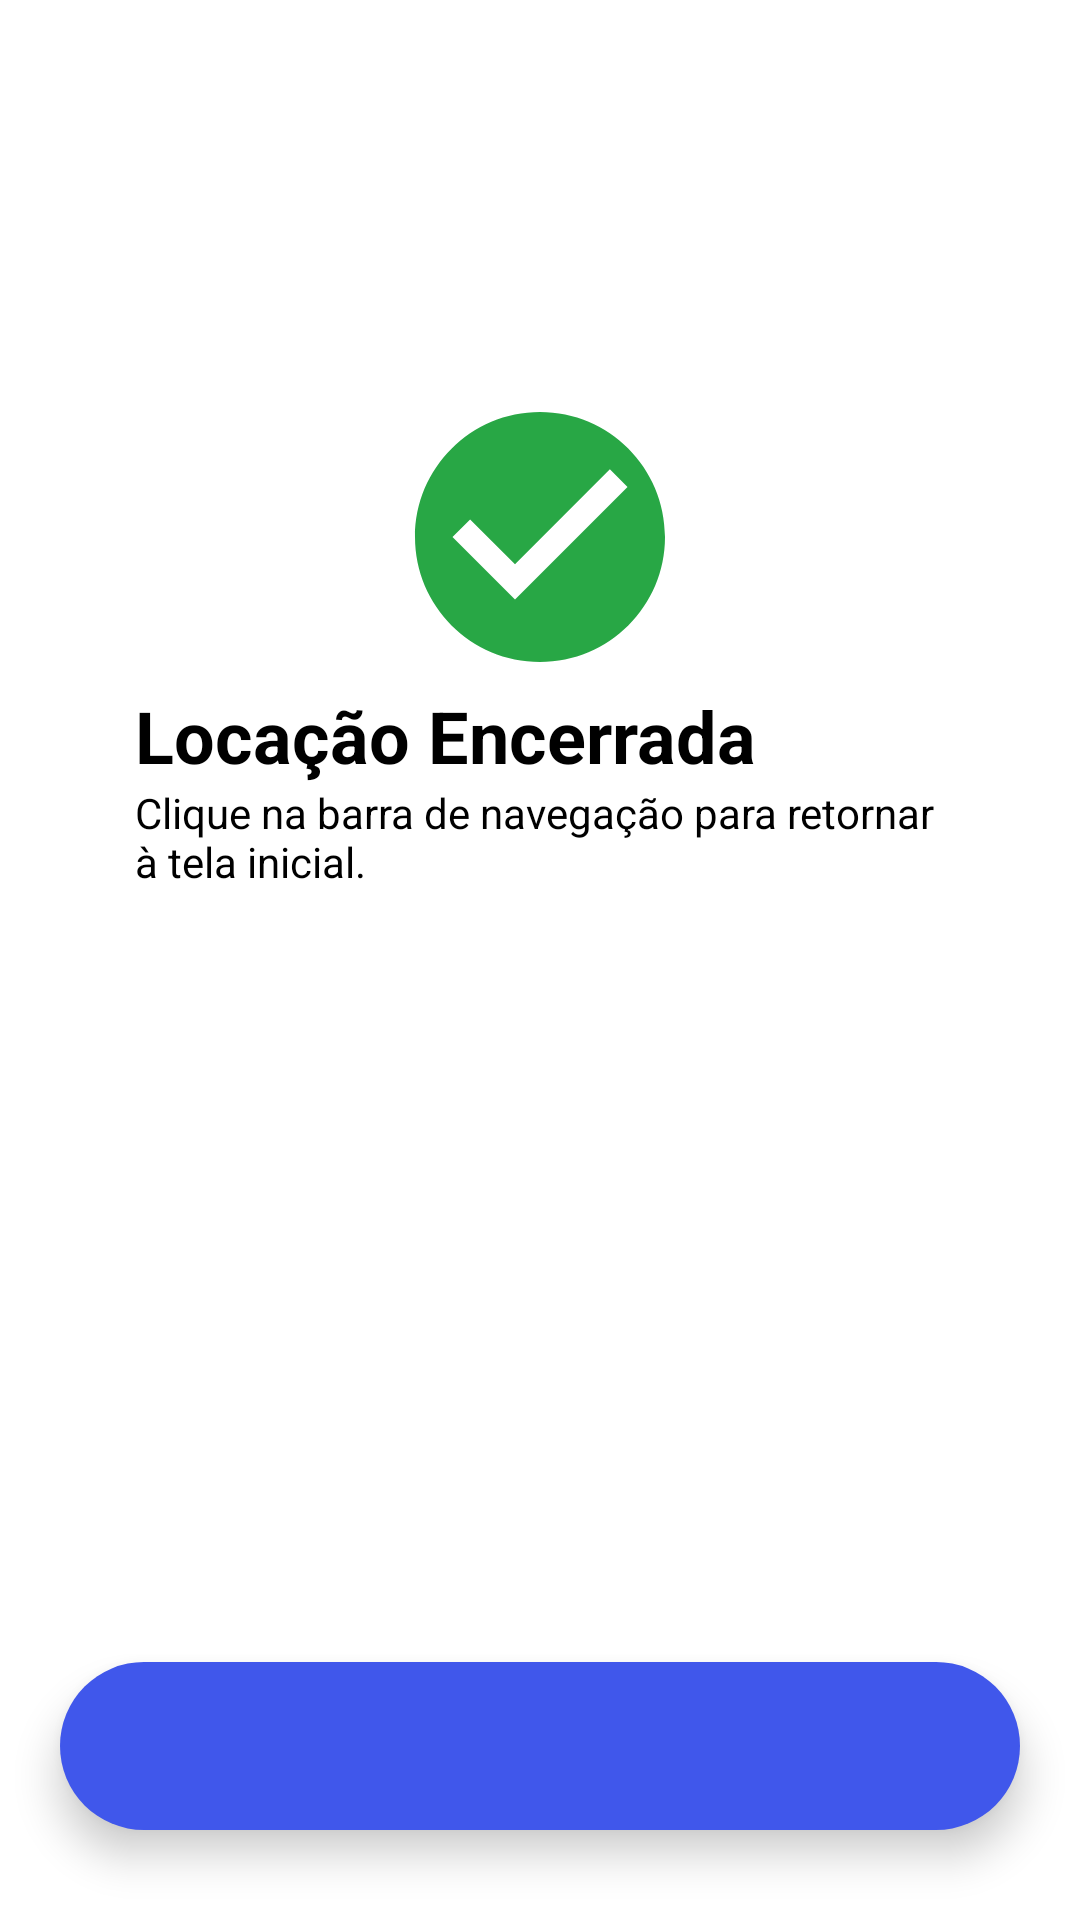

Named icons in this screenshot (1080w x 1920h) and their centers, point (x, y):
check circle: point (540, 537)
